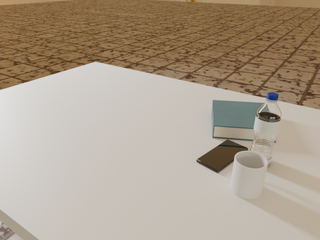book: (212, 100, 276, 143)
bottle: (250, 93, 282, 165)
cup: (231, 151, 268, 199)
phone: (196, 140, 248, 173)
